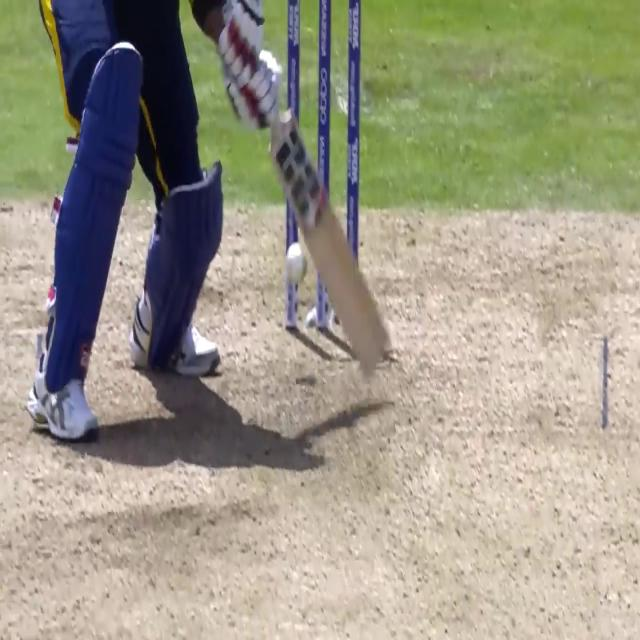ball: (286, 242, 308, 284)
